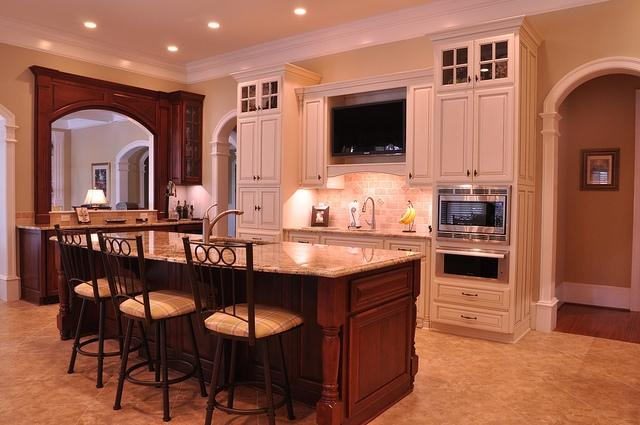banana: (399, 204, 411, 222), (403, 206, 414, 224), (404, 208, 416, 224)
